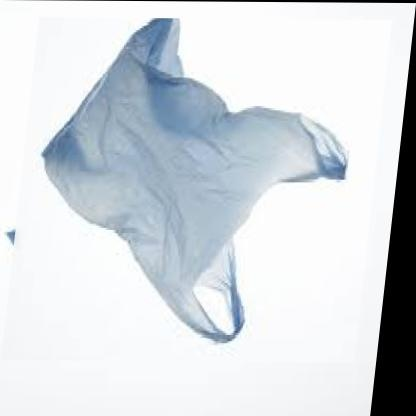trash: (42, 18, 346, 341), (43, 18, 346, 341)
